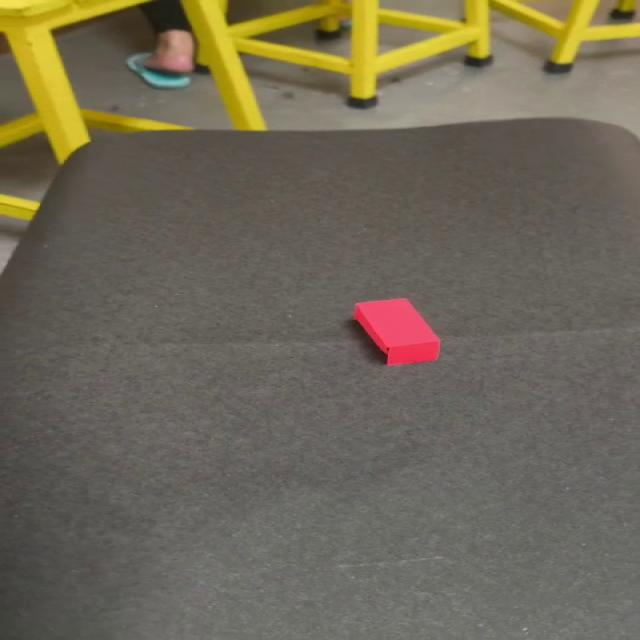red block: (352, 297, 440, 366)
